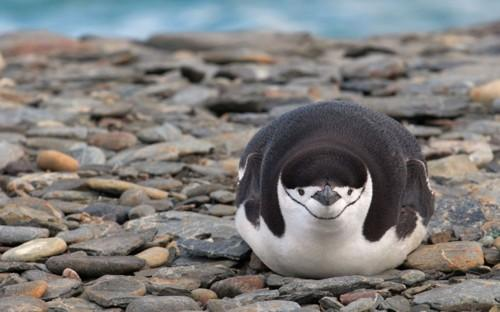chinstrap: (200, 88, 447, 287)
